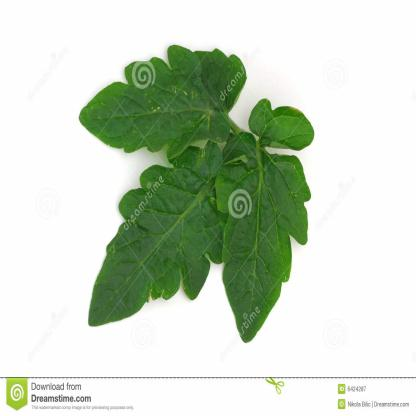tomato leaf: (88, 125, 251, 341), (101, 35, 278, 172), (206, 141, 311, 356)
